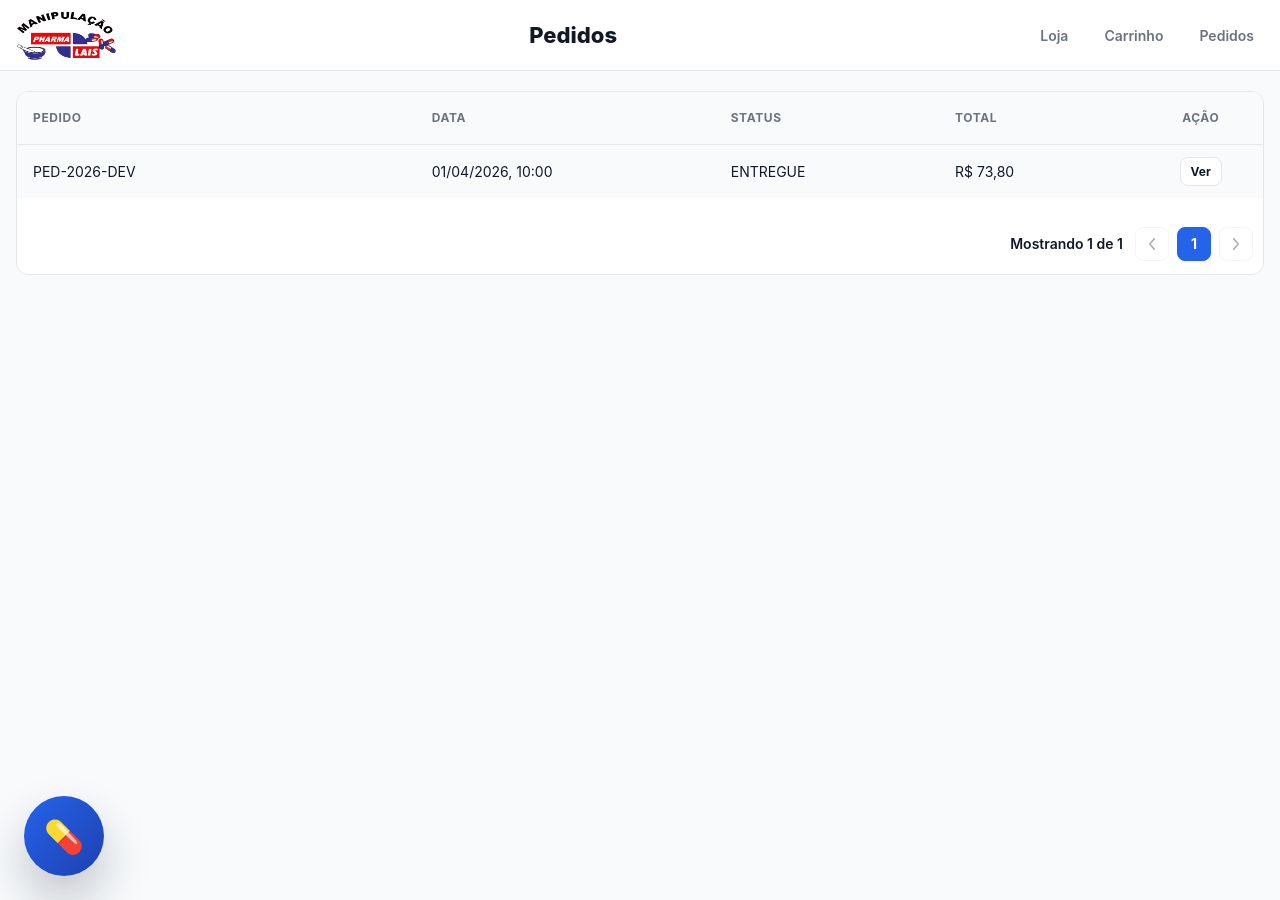
it: Fluxo de compra do cliente - front › cliente solicita devolução da compra
Expected: the text "PED-2026-DEV" is shown, [33,162,136,180]
Click the button "Ver" at {"x": 1201, "y": 172}, box [1180,157,1222,186]
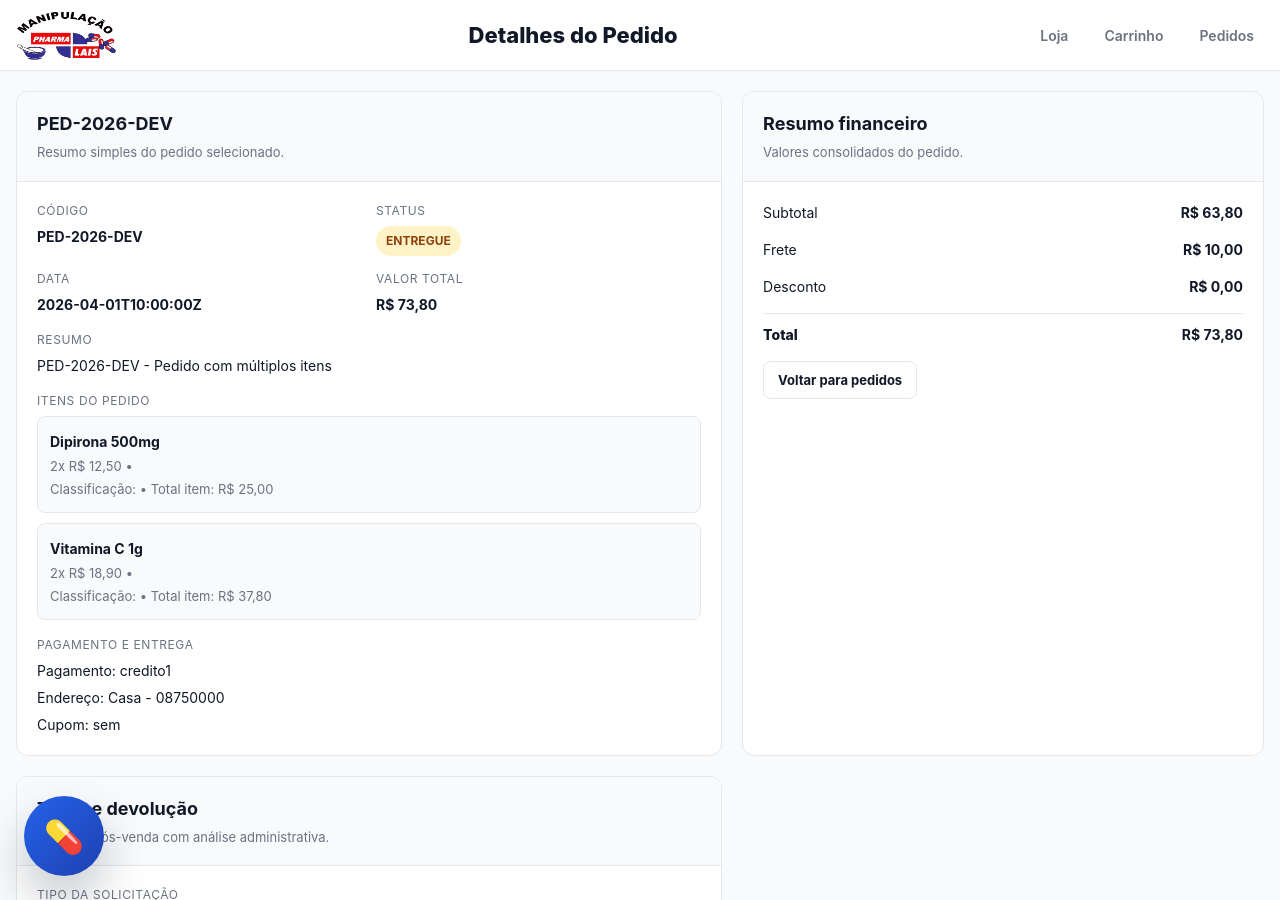
Expected: the text "ENTREGUE" is shown, [376,226,461,256]
Scroll
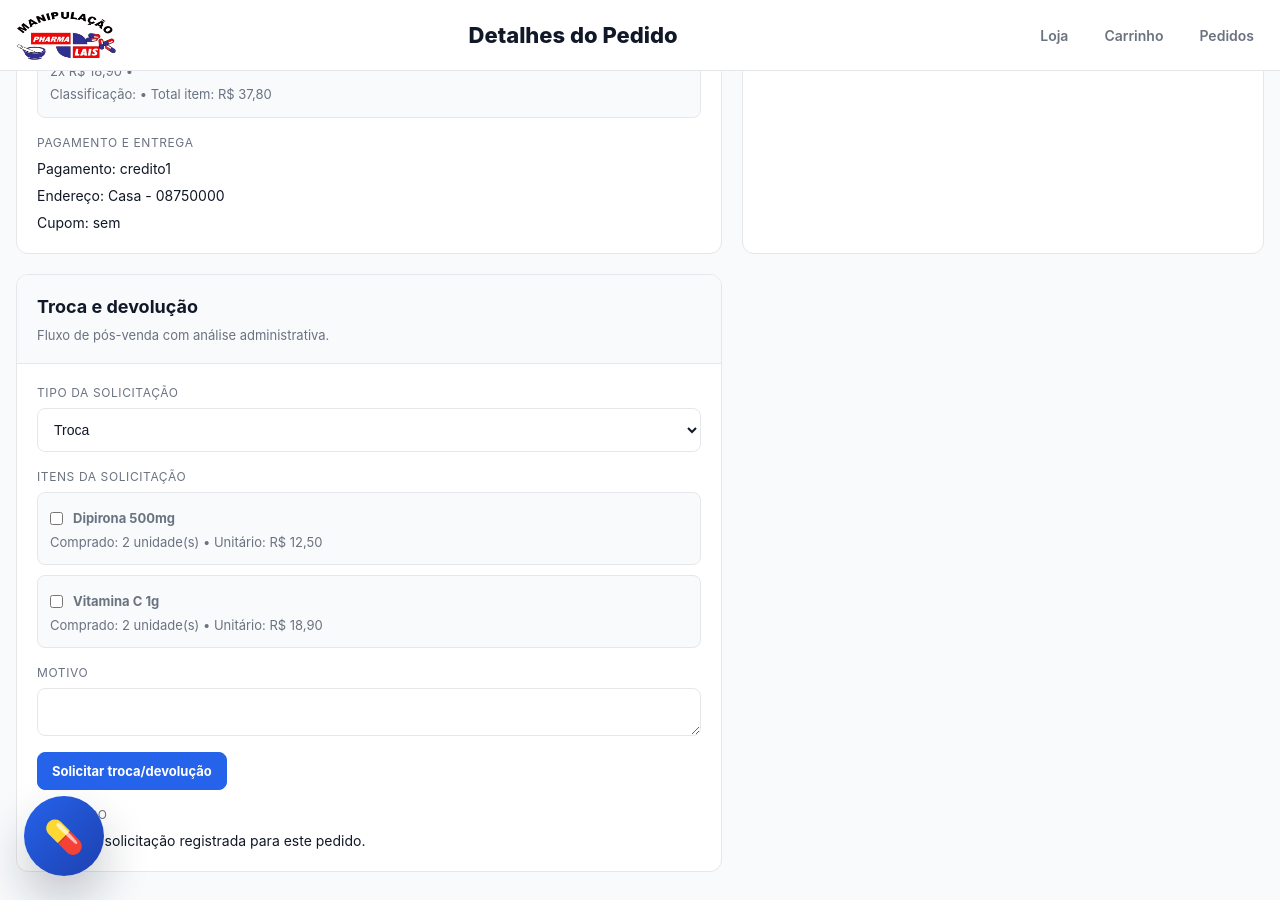
Click the button "Solicitar troca/devolução" at {"x": 132, "y": 771}, box [37,752,227,790]
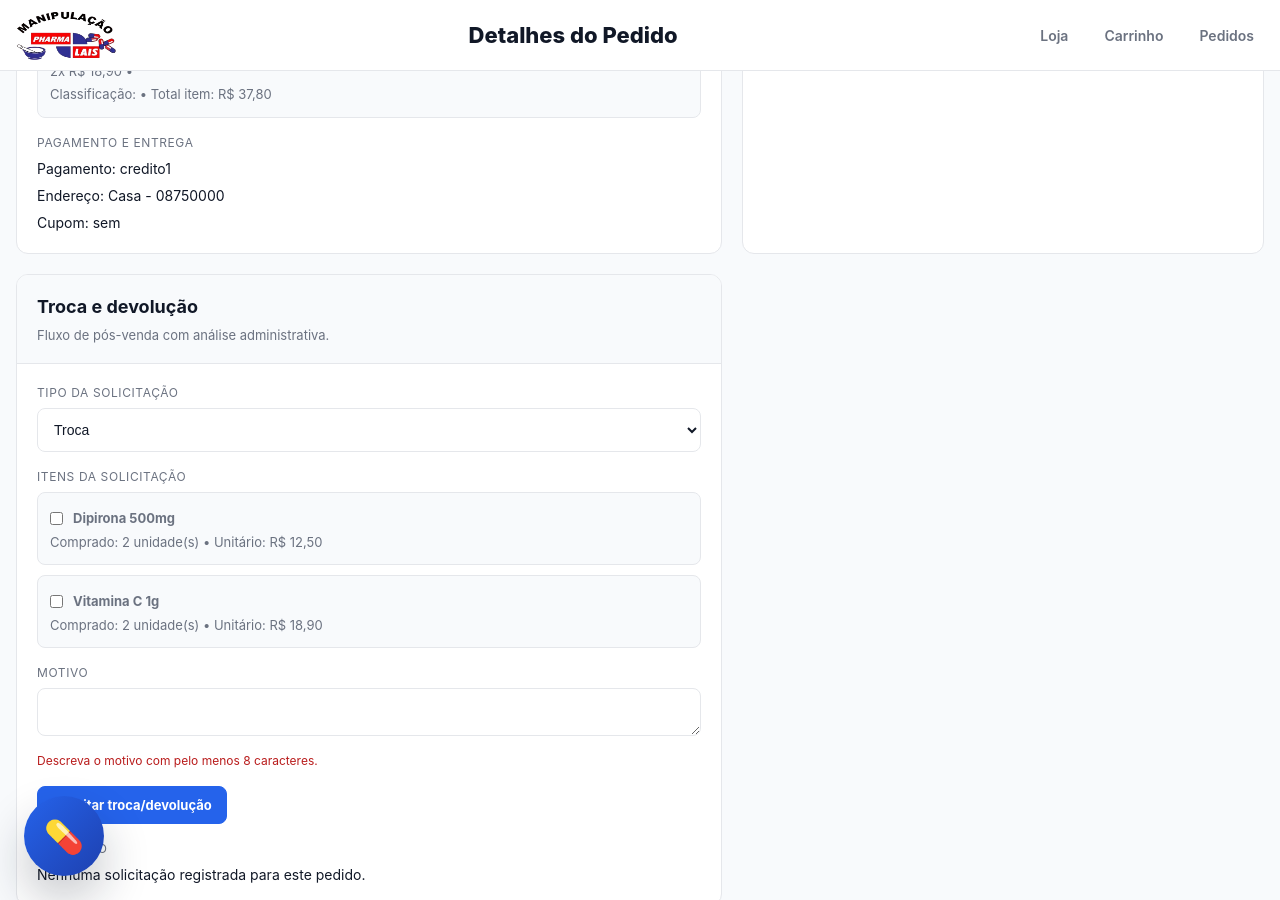
Select "Devolução" in the dropdown at {"x": 369, "y": 430}, box [37,408,701,452]
Check the 1st checkbox at {"x": 57, "y": 519}, box [50,512,63,525]
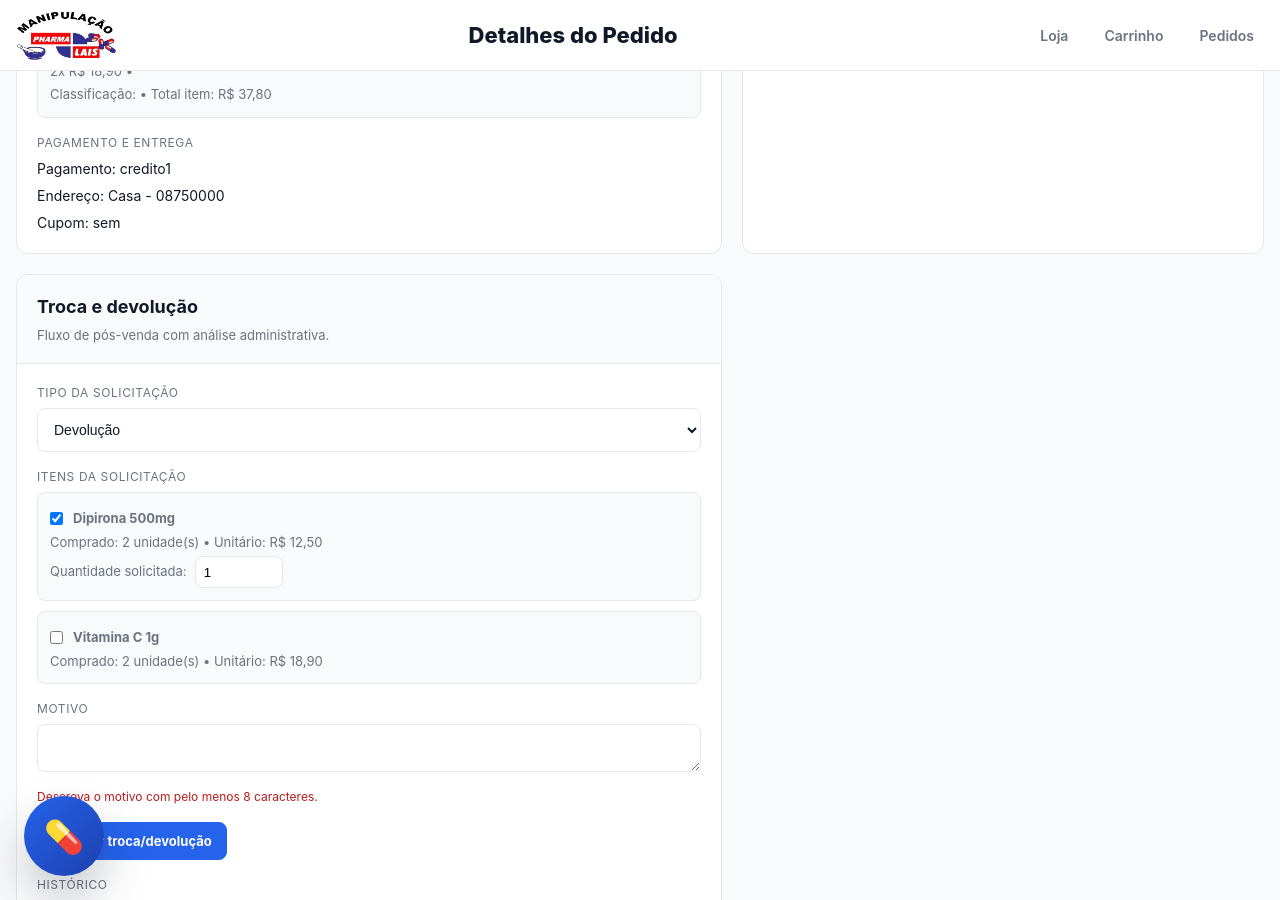
Check the 2nd checkbox at {"x": 57, "y": 638}, box [50,631,63,644]
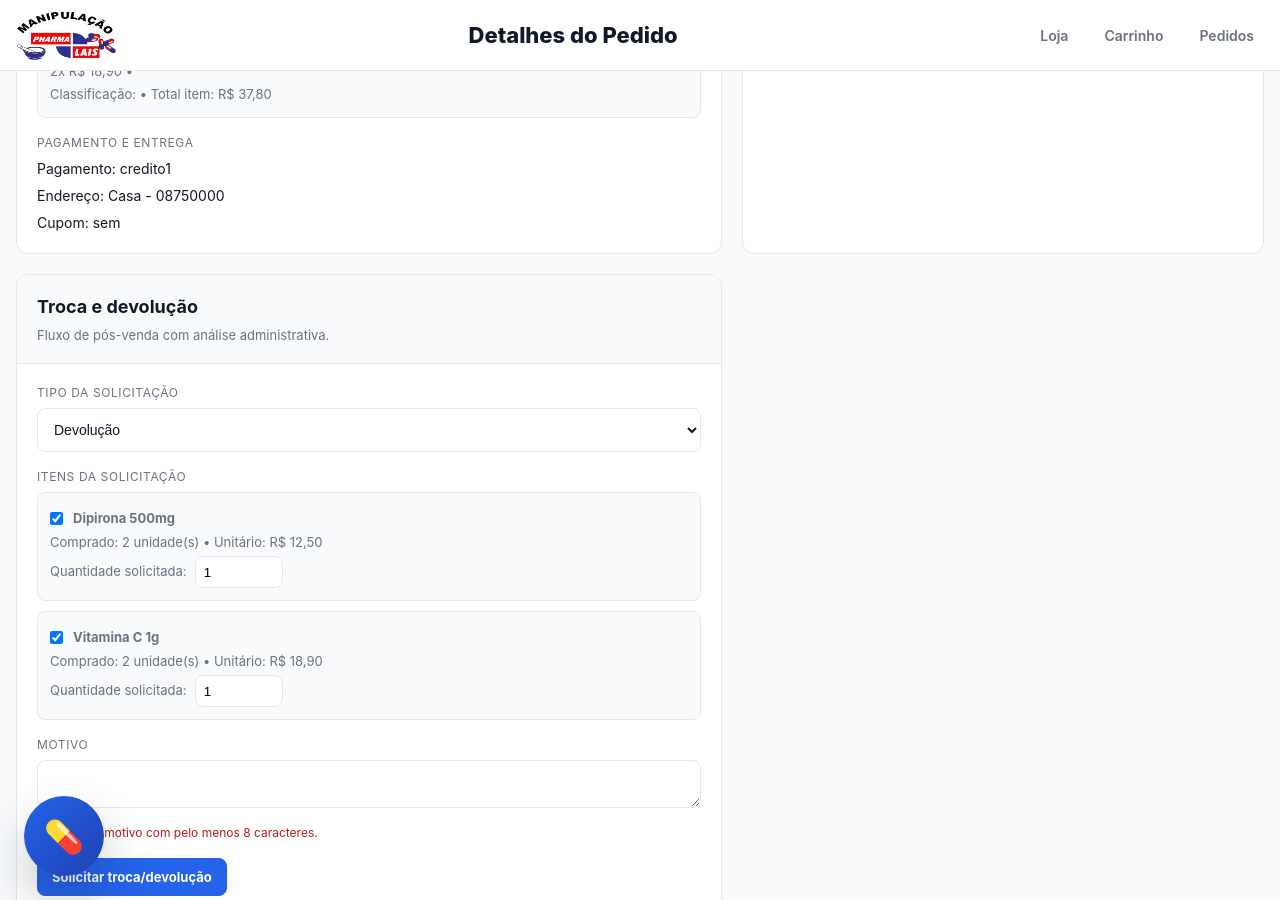
Type "Produto não atendeu às minhas expectativas." into the text box at {"x": 369, "y": 784}, box [37,760,701,808]
Click the button "Solicitar troca/devolução" at {"x": 132, "y": 877}, box [37,858,227,896]
(page scrolled)
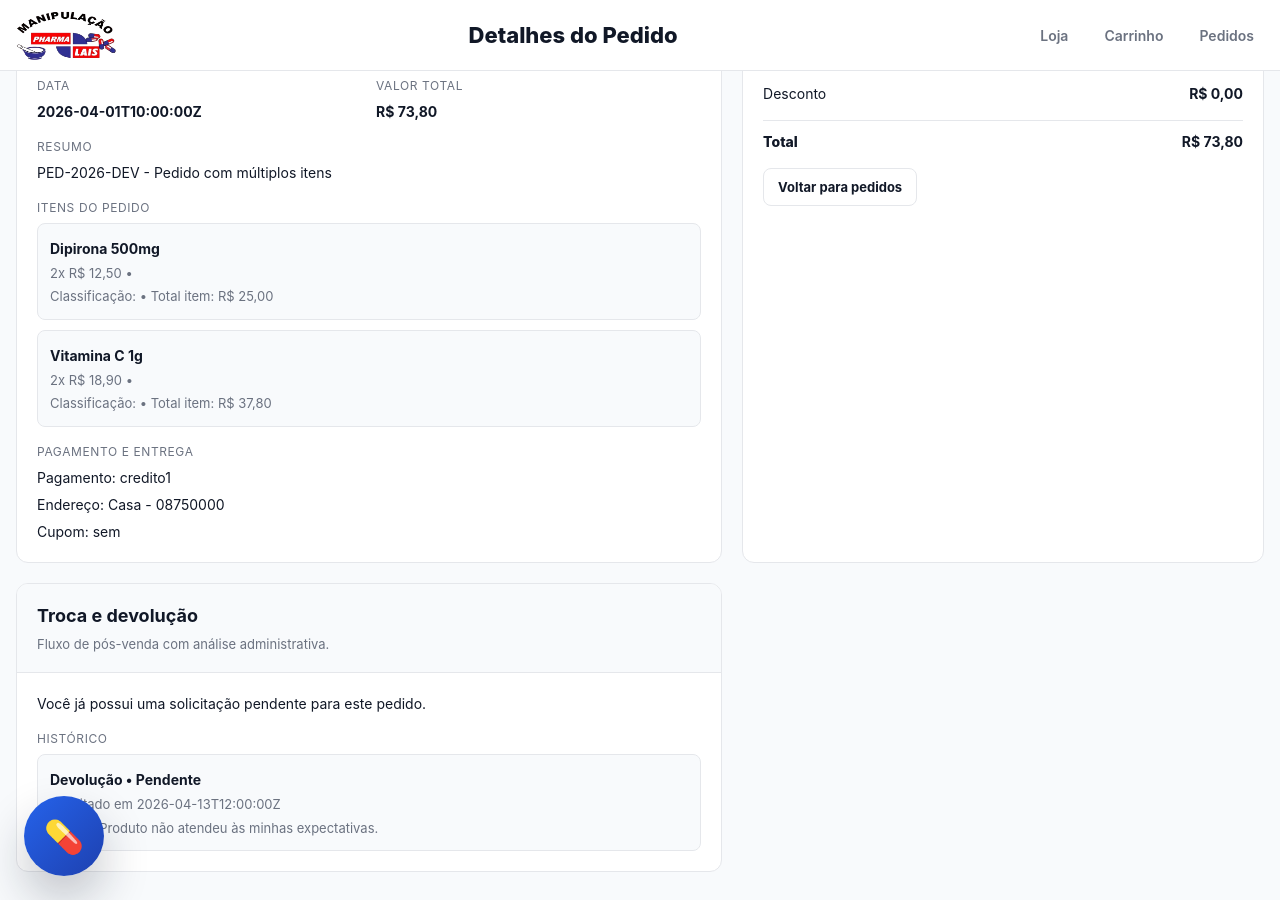
Now the text "Devolução • Pendente" is shown, box [50,771,201,788]
Now the text "Você já possui uma solicitação pendente para este pedido." is shown, box [37,695,426,712]
